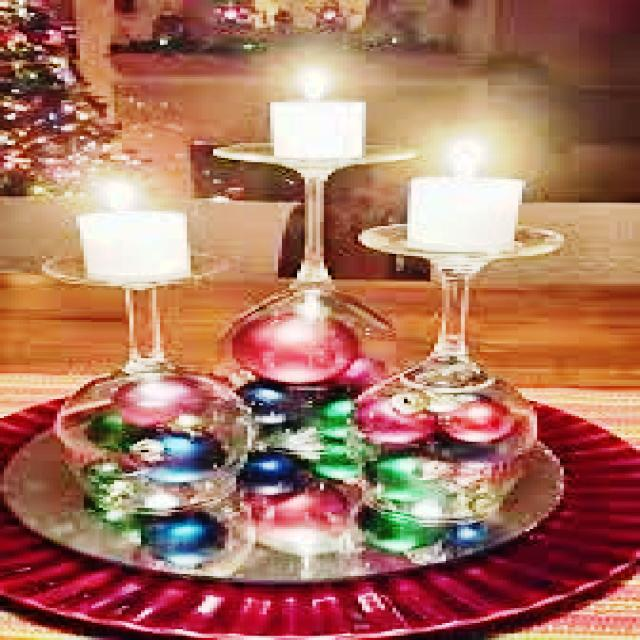api: (432, 136, 497, 185), (287, 65, 344, 106), (89, 178, 154, 210)
